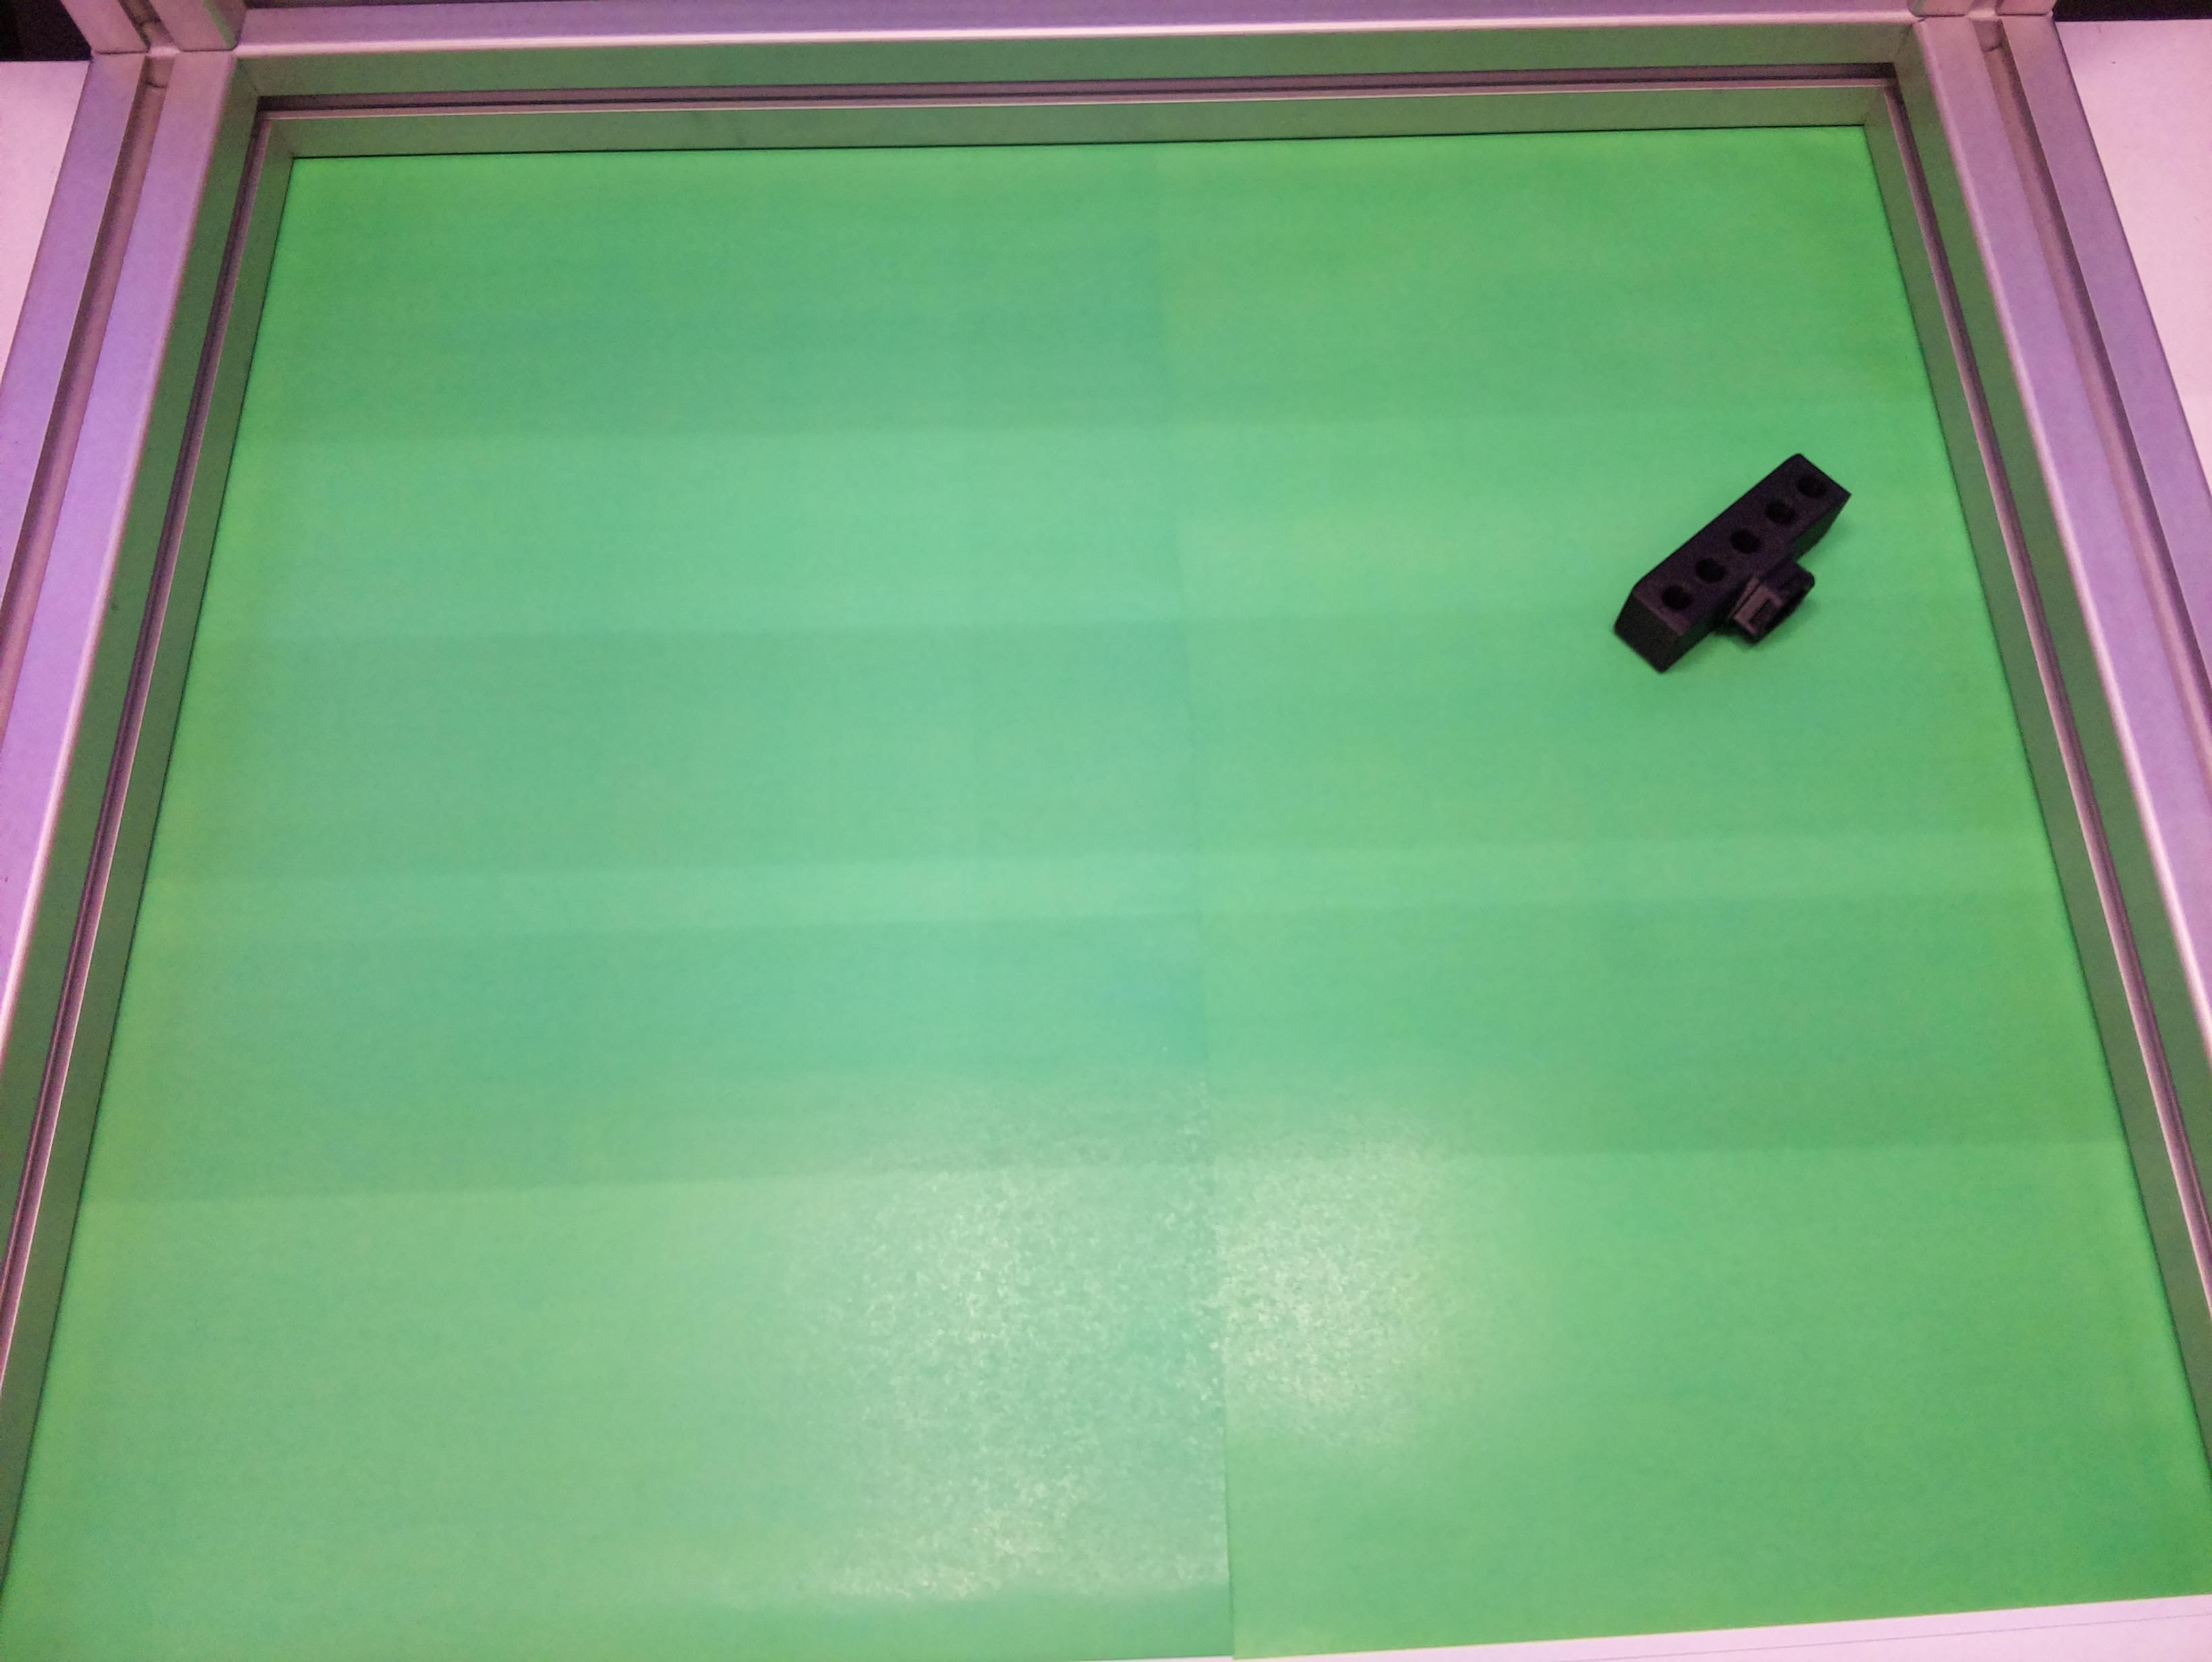bit_holder: (1600, 438, 1884, 709)
